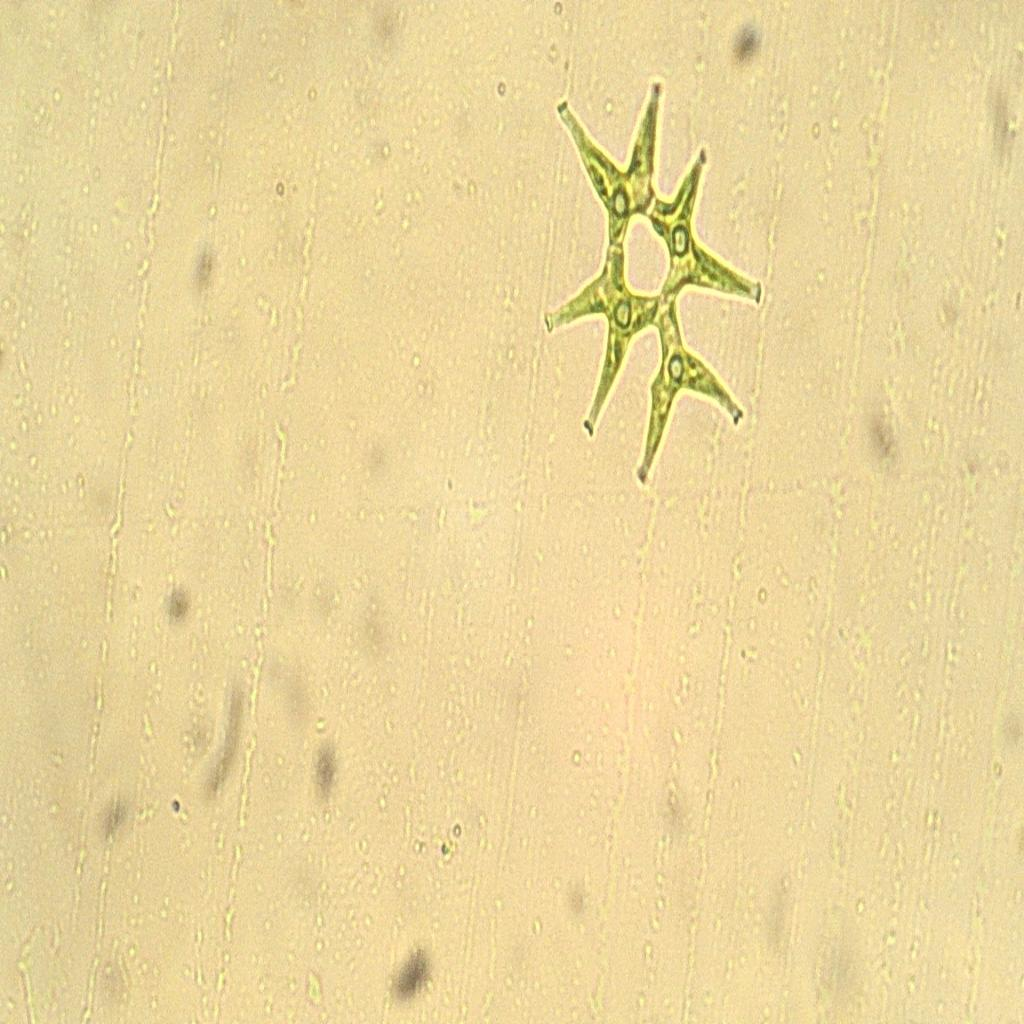Pediastrum_CT: (526, 63, 781, 514)
